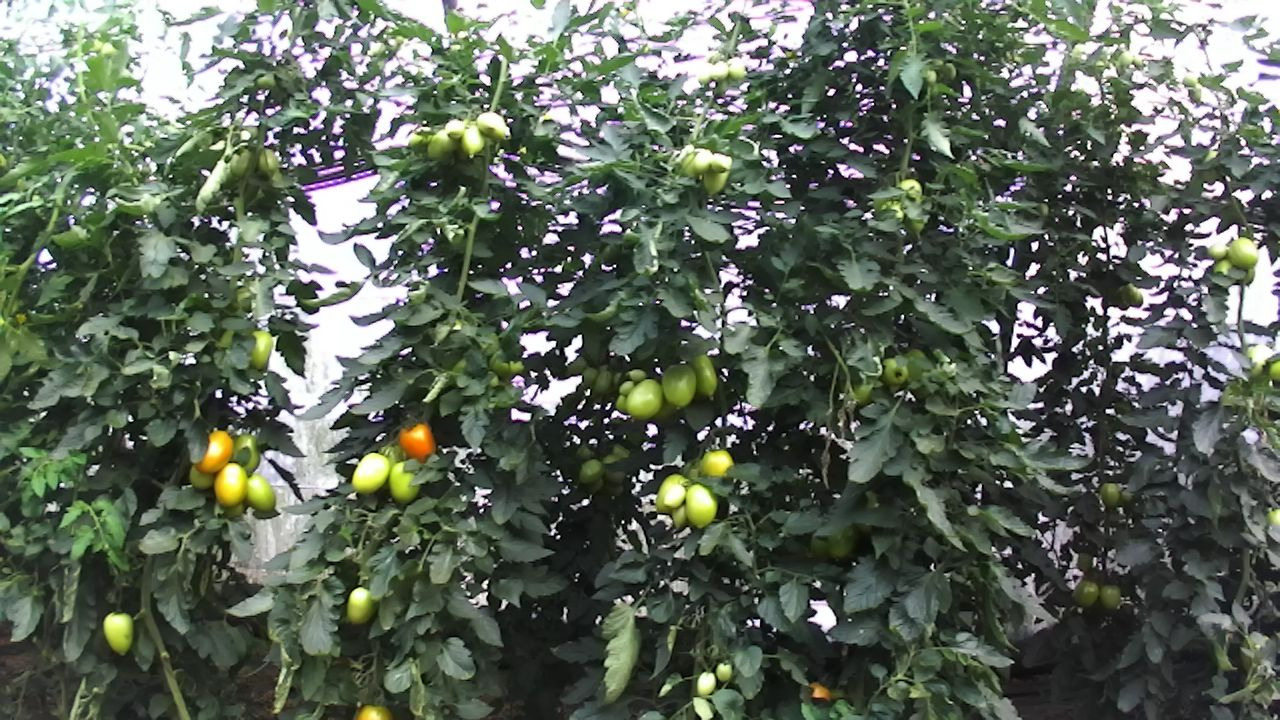tomato: (348, 449, 392, 497), (682, 480, 720, 531), (192, 427, 233, 473), (658, 362, 697, 409), (385, 460, 423, 507), (397, 419, 437, 463), (211, 460, 246, 510), (100, 609, 136, 657), (625, 376, 664, 419), (688, 352, 719, 402), (345, 584, 379, 626), (244, 470, 277, 513), (1225, 234, 1260, 270), (249, 327, 276, 373), (699, 165, 732, 198), (1070, 577, 1100, 609), (576, 456, 605, 485), (460, 126, 487, 157), (660, 480, 687, 508), (1098, 581, 1122, 611), (707, 151, 734, 174), (1099, 481, 1120, 509), (695, 670, 716, 696), (444, 117, 466, 140), (1205, 239, 1228, 259), (714, 659, 733, 683), (625, 365, 647, 383), (617, 377, 635, 398)
